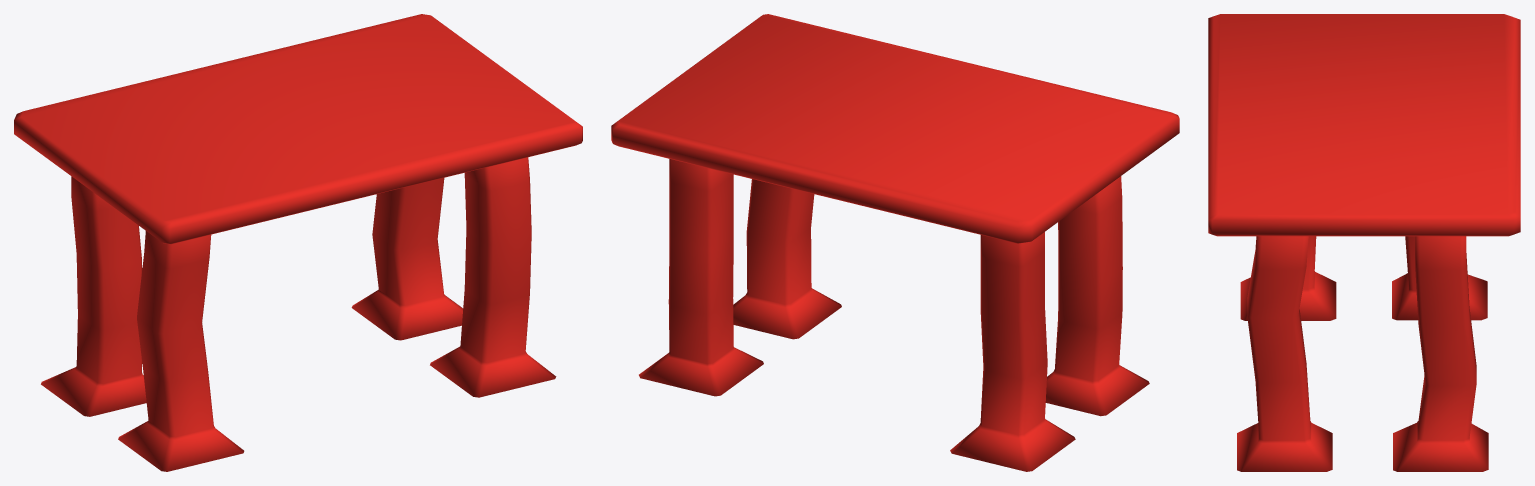
The model's file is BalcaoCozinha.fbx.
3 renders of one model, left to right at view 1: azimuth 30°, elevation 25°; view 2: azimuth 150°, elevation 25°; view 3: azimuth 270°, elevation 25°, orthographic.
Visible parts, largest first — view 1: Plane.001; view 2: Plane.001; view 3: Plane.001.
Part boxes in pixels (x1,y1,x2,y2): Plane.001: [14, 14, 582, 471]; Plane.001: [611, 14, 1179, 471]; Plane.001: [1208, 14, 1520, 471].
Size of the model in its own units: 1815 by 1081 by 1172.
